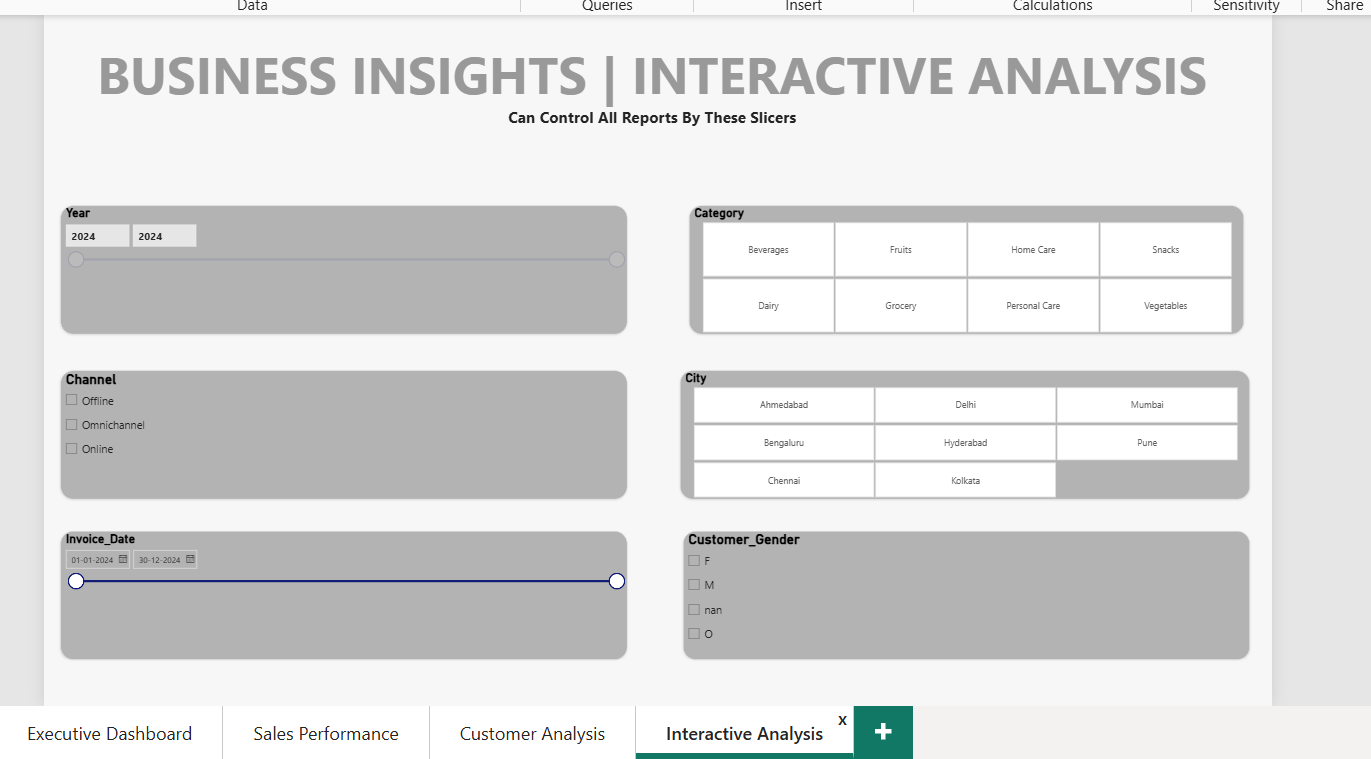

The dashboard page shown, as its layout file describes it:
{"tool":"powerbi","page":{"name":"Interactive Analysis","canvas":[1920,1080],"ordinal":3},"visuals":[{"type":"slicer","fields":{"Values":["DimDate.Year"]},"box":[25.8,297.7,886.2,201.6],"z":0},{"type":"slicer","fields":{"Values":["Fact sales.Category"]},"box":[1008.1,297.7,867.5,201.6],"z":1000},{"type":"slicer","fields":{"Values":["Fact sales.Channel"]},"box":[25.8,555.6,886.2,201.6],"z":2000},{"type":"slicer","fields":{"Values":["Fact sales.City"]},"box":[994.1,555.6,890.9,201.6],"z":3000},{"type":"slicer","fields":{"Values":["Fact sales.Invoice_Date"]},"box":[25.8,806.5,886.2,201.6],"z":3001},{"type":"slicer","fields":{"Values":["Fact sales.Customer_Gender"]},"box":[998.7,806.5,886.2,201.6],"z":3002},{"type":"textbox","box":[25.8,37.5,1849.8,201.6],"z":3003}]}

Visuals, with their boxes on the page's 1920x1080 design canvas (x1, y1, x2, y2). These are canvas units, not pixel positions in the 1371x759 screenshot, which may show the page scaled, cropped or inside an application window:
slicer - DimDate.Year: {"left": 26, "top": 298, "right": 912, "bottom": 499}
slicer - Fact sales.Category: {"left": 1008, "top": 298, "right": 1876, "bottom": 499}
slicer - Fact sales.Channel: {"left": 26, "top": 556, "right": 912, "bottom": 757}
slicer - Fact sales.City: {"left": 994, "top": 556, "right": 1885, "bottom": 757}
slicer - Fact sales.Invoice_Date: {"left": 26, "top": 806, "right": 912, "bottom": 1008}
slicer - Fact sales.Customer_Gender: {"left": 999, "top": 806, "right": 1885, "bottom": 1008}
textbox: {"left": 26, "top": 38, "right": 1876, "bottom": 239}
